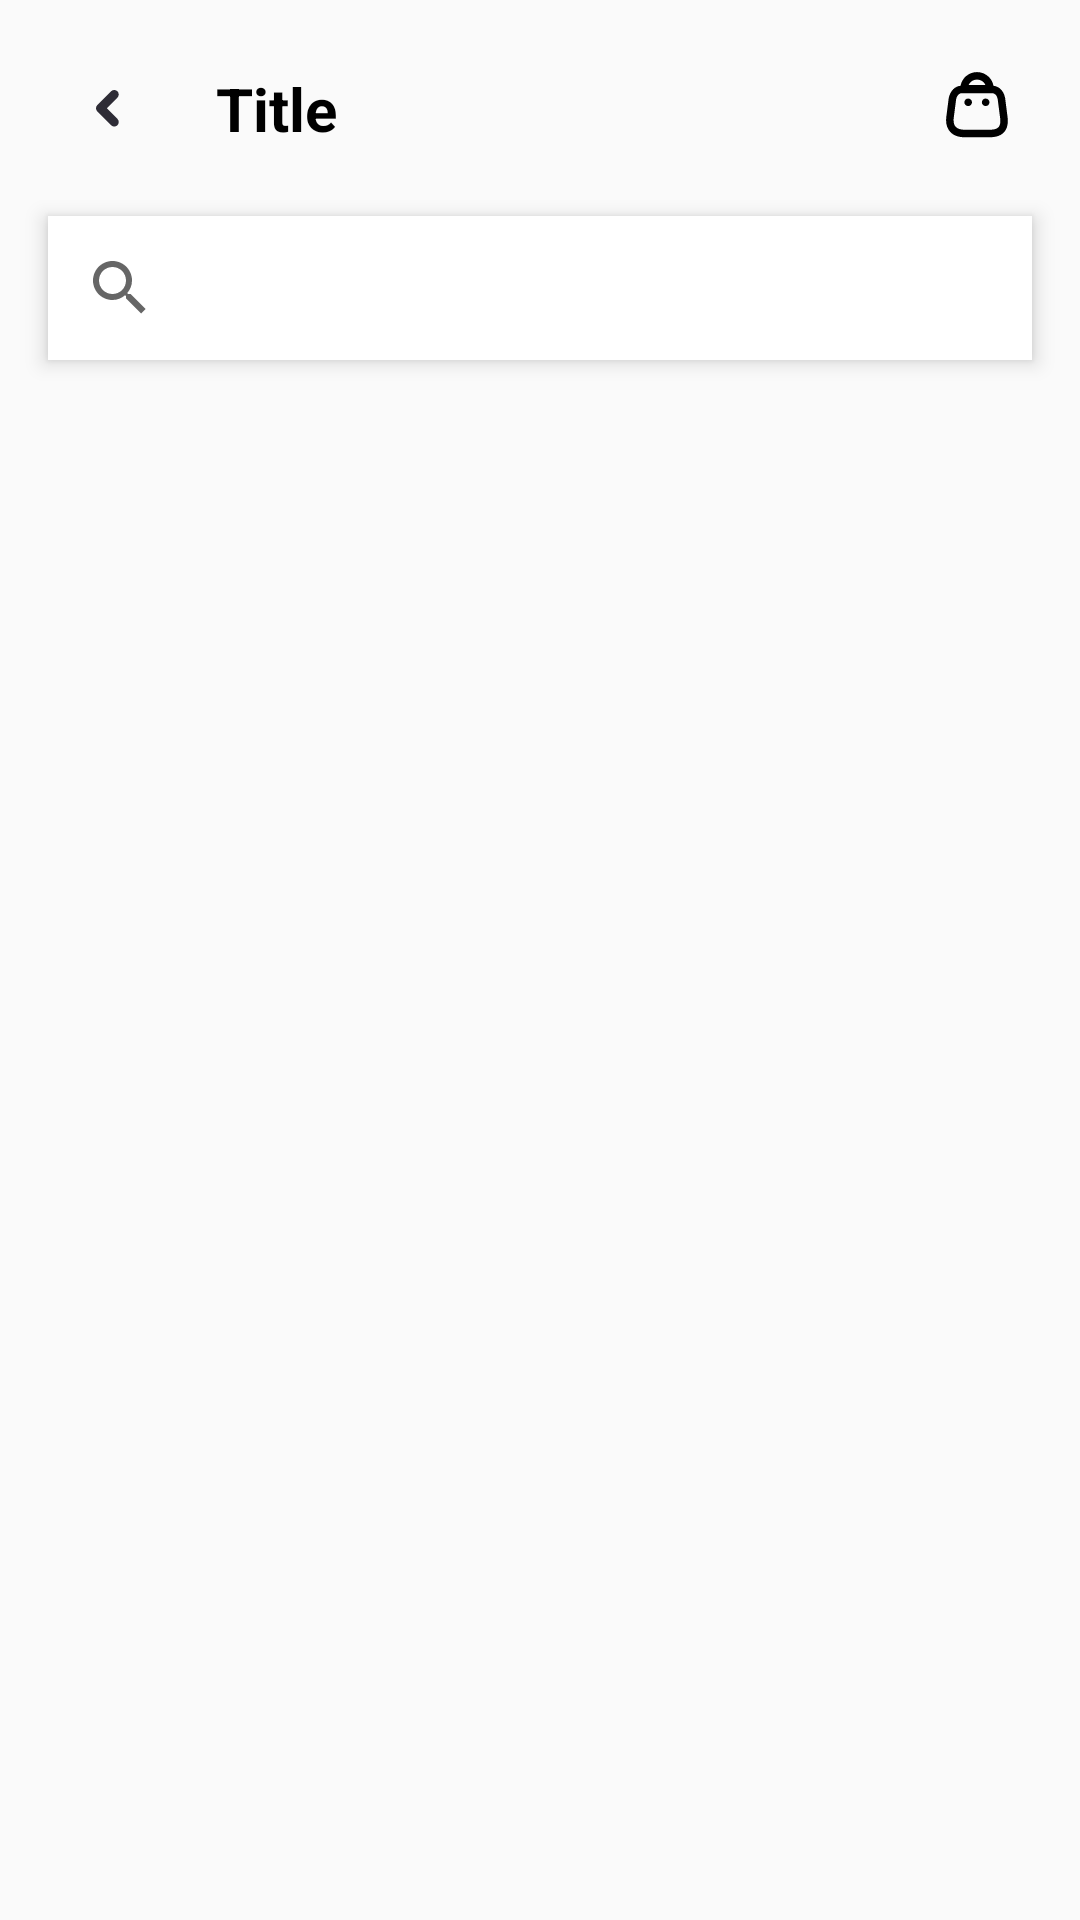

Screen size 1080px x 1920px. Icon name, then its center in pixels as point (x, y):
back: point (107, 108)
basket: point (977, 105)
